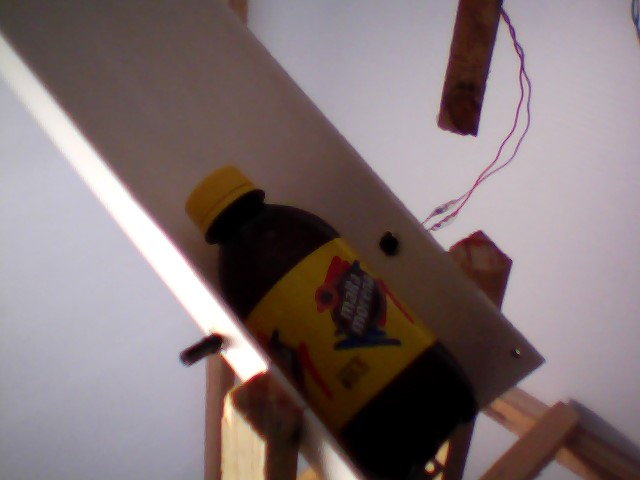plastico: (184, 163, 481, 477)
